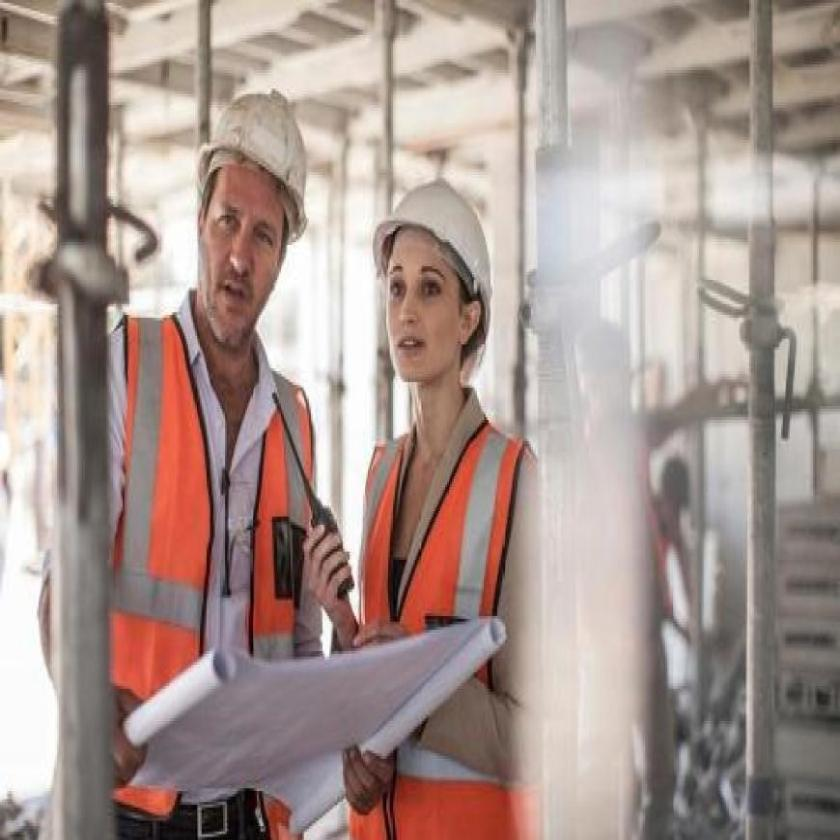Con_casco: (192, 73, 302, 333), (377, 170, 492, 405)
